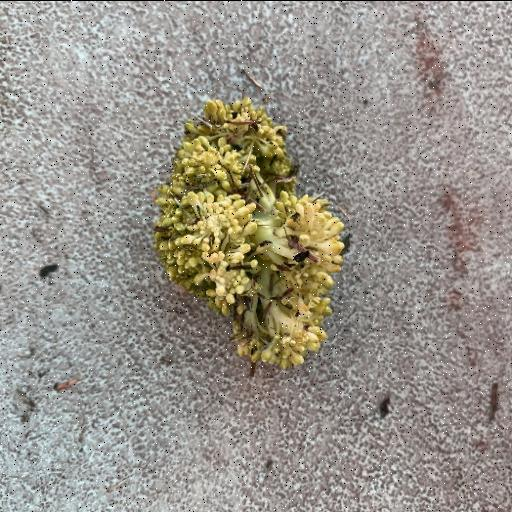Waste: (149, 95, 347, 371)
